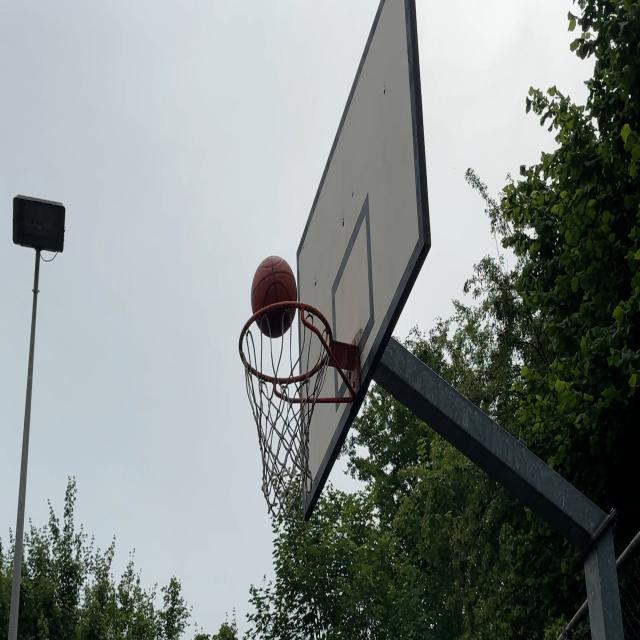rebound_hit: (252, 254, 298, 339)
